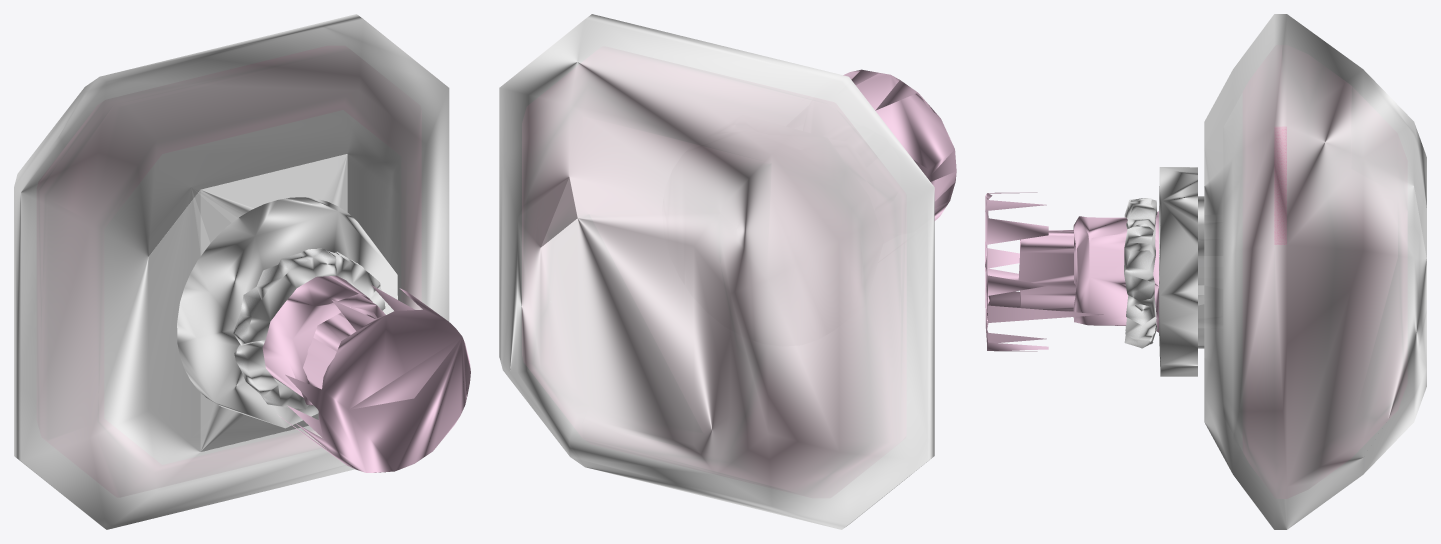
File: model_align.obj
3 renders of one model, left to right at view 1: azimuth 30°, elevation 25°; view 2: azimuth 150°, elevation 25°; view 3: azimuth 270°, elevation 25°, orthographic. The views are drawn at different scales.
Bounding box in the file's own units: 0.1279 × 0.1279 × 0.127.
